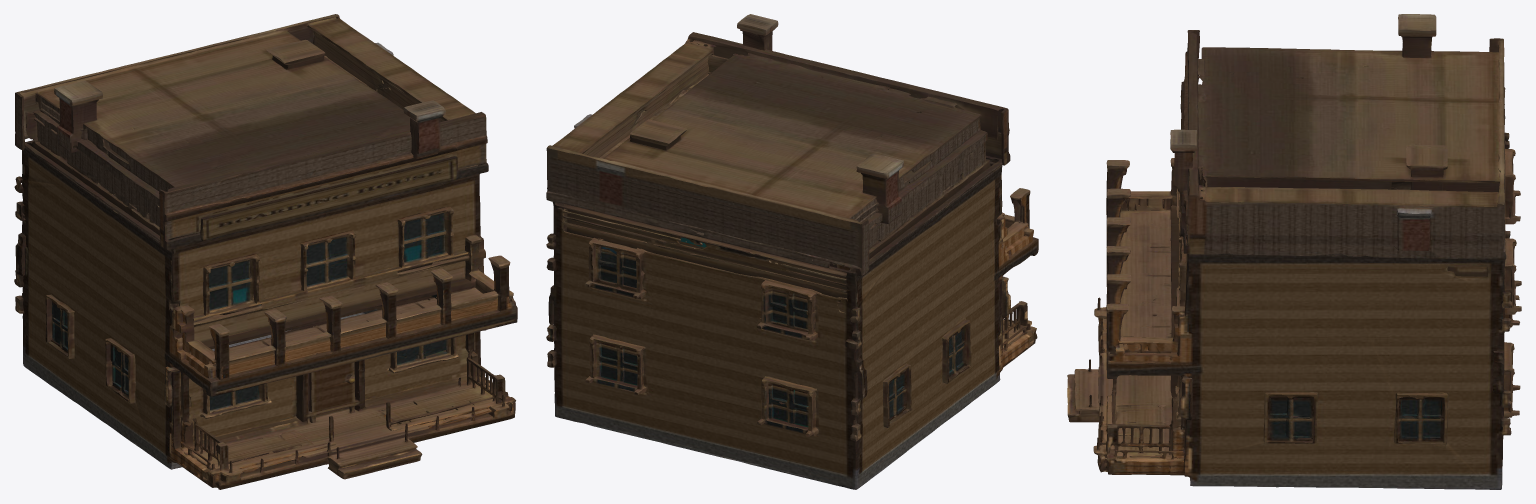
Rendered from scene-0-objects-1-glbData-48b85b94db5d.glb.
The picture shows the model from 3 angles, left to right: view 1: azimuth 30°, elevation 25°; view 2: azimuth 150°, elevation 25°; view 3: azimuth 270°, elevation 25°; orthographic projection. The views are drawn at different scales.
Parts seen in each view (by area): view 1: Boarding_House_Optimized; view 2: Boarding_House_Optimized; view 3: Boarding_House_Optimized.
Boxes of the visible parts, <box> form: Boarding_House_Optimized: <box>14,14,517,489</box>; Boarding_House_Optimized: <box>546,14,1038,489</box>; Boarding_House_Optimized: <box>1067,14,1521,489</box>.
Bounding box in the file's own units: 8.3 × 7.4 × 9.4.
Materials: 1 (1 with a texture image).
